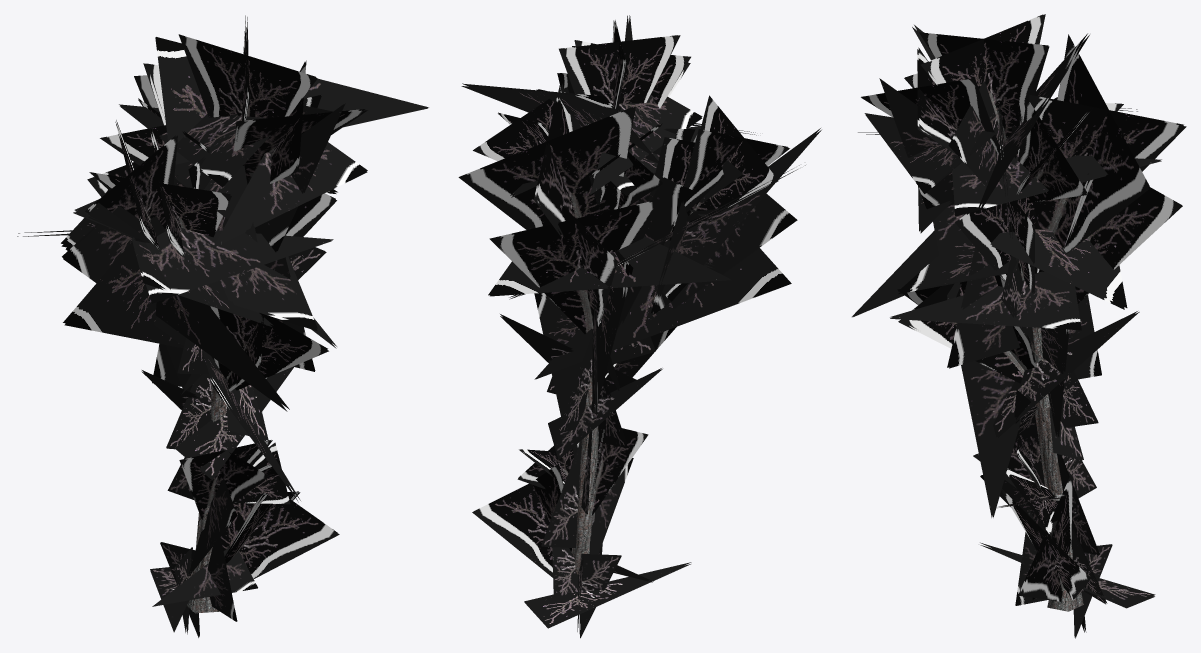
Rendered from olmo_seco_b.glb.
3 renders of one model, left to right at view 1: azimuth 30°, elevation 25°; view 2: azimuth 150°, elevation 25°; view 3: azimuth 270°, elevation 25°, orthographic. The views are drawn at different scales.
Visible parts, largest first — view 1: Modelo; view 2: Modelo; view 3: Modelo.
Boxes of the visible parts, box(x1,y1,x2,y2) form: Modelo: box(17, 15, 428, 637); Modelo: box(458, 15, 821, 638); Modelo: box(852, 14, 1186, 638).
Bounding box in the file's own units: 6.2 × 10.05 × 5.02.
1 material, 1 textured.
